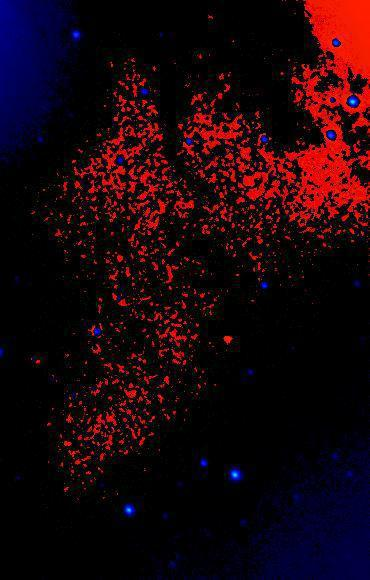star: (213, 326, 243, 356)
